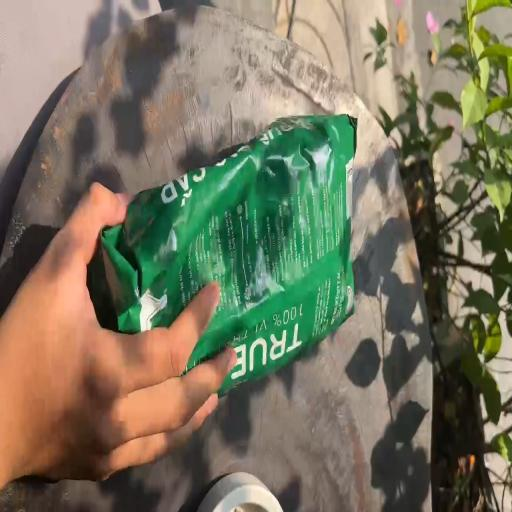cafe_xay: (91, 114, 357, 392)
